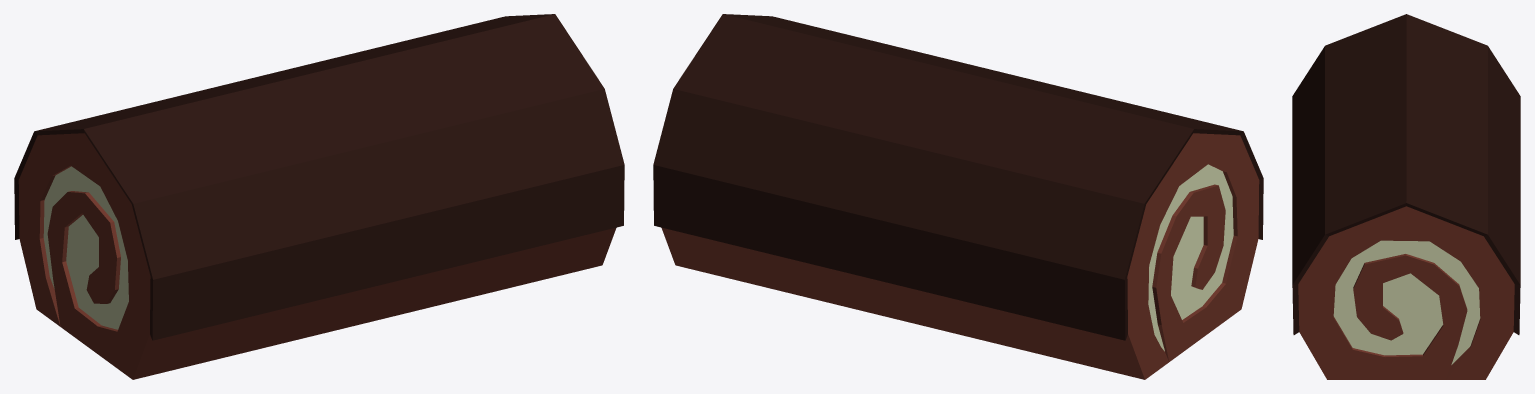
File: swiss_roll.fbx
The picture shows the model from 3 angles, left to right: view 1: azimuth 30°, elevation 25°; view 2: azimuth 150°, elevation 25°; view 3: azimuth 270°, elevation 25°; orthographic projection. The views are drawn at different scales.
Parts seen in each view (by area): view 1: swiss_roll; view 2: swiss_roll; view 3: swiss_roll.
Part boxes in pixels (x1,y1,x2,y2): swiss_roll: (14, 14, 624, 379); swiss_roll: (653, 14, 1263, 379); swiss_roll: (1292, 14, 1520, 379).
Bounding box in the file's own units: 221 × 96.8 × 113.
